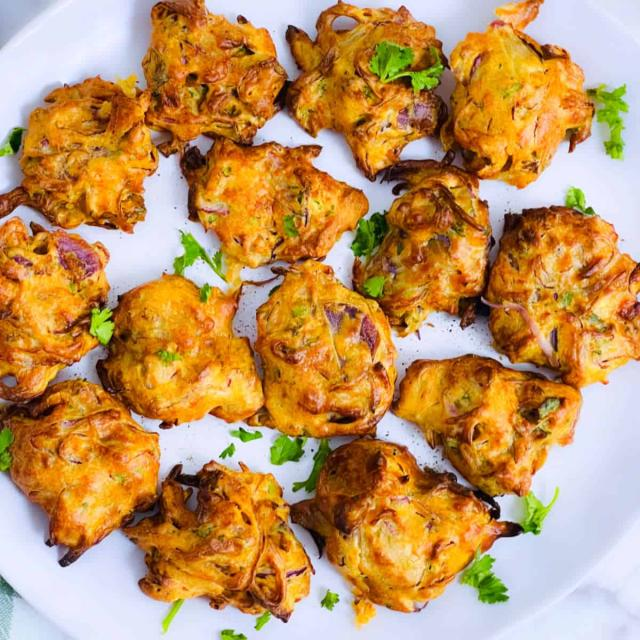BAJI: (292, 438, 519, 623), (124, 461, 313, 620), (441, 0, 594, 188), (4, 379, 159, 564), (285, 2, 446, 180), (483, 206, 639, 387), (393, 354, 581, 496), (249, 260, 397, 438), (97, 275, 263, 426), (353, 160, 494, 337), (0, 77, 158, 232), (142, 0, 286, 154)
